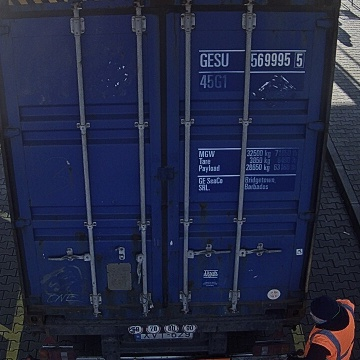serial_id: (199, 52, 303, 67)
